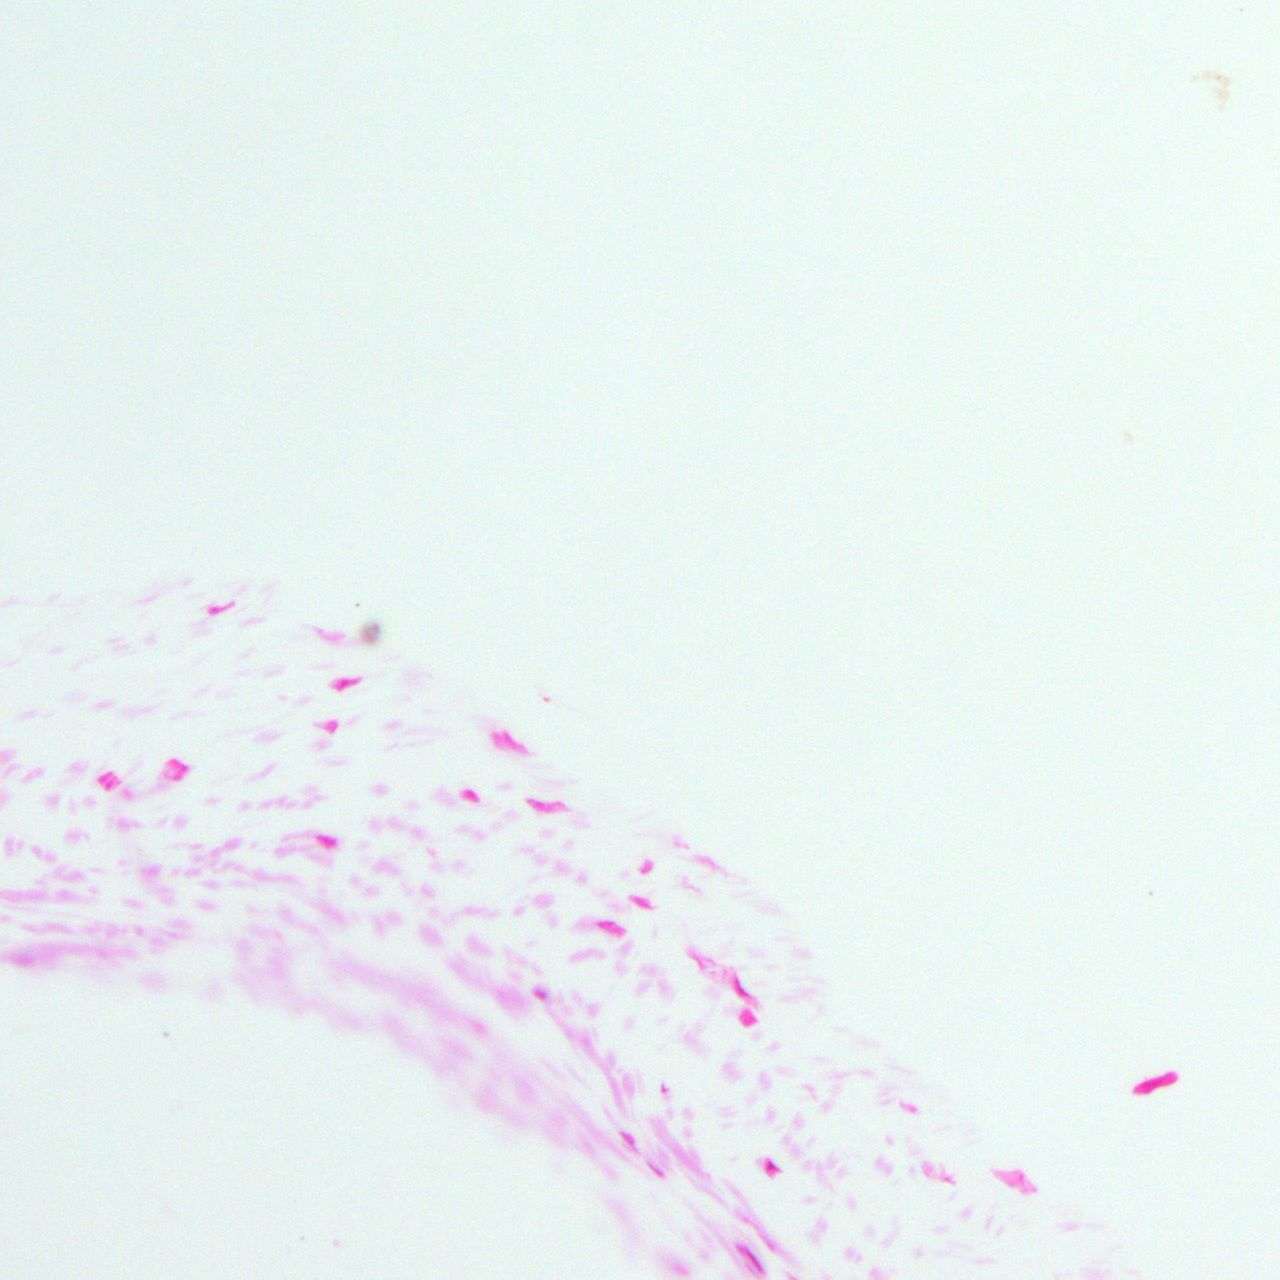dust: (357, 621, 380, 645), (1147, 889, 1154, 897), (353, 600, 359, 608)
nucleus-FG: (498, 730, 532, 756), (206, 596, 236, 618), (334, 670, 366, 690), (621, 1129, 641, 1155), (744, 1248, 764, 1274), (166, 756, 190, 775), (525, 801, 566, 812), (645, 1159, 665, 1180), (629, 894, 653, 910), (689, 951, 706, 973), (731, 976, 748, 996), (102, 774, 118, 792), (764, 1160, 780, 1175), (98, 769, 115, 783), (596, 920, 617, 930), (316, 835, 337, 844), (464, 789, 479, 801), (533, 987, 546, 999), (330, 722, 339, 734), (659, 1084, 670, 1093), (171, 775, 183, 780)
